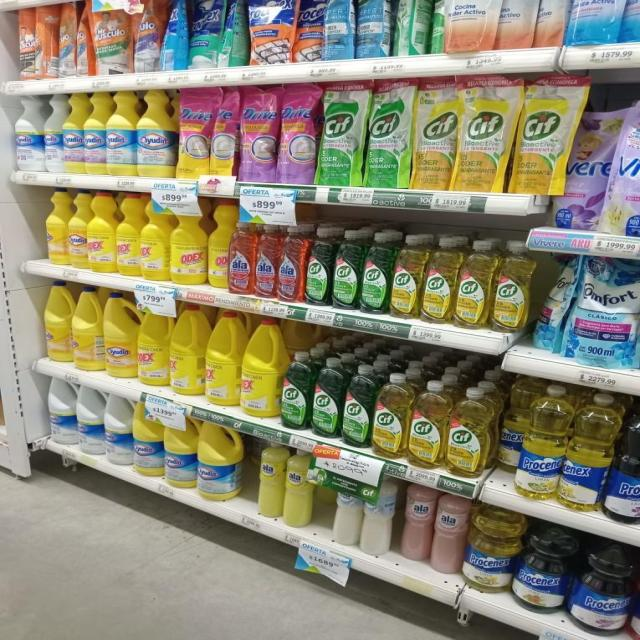ala_conc_rojo: (278, 224, 304, 303), (228, 220, 254, 296), (255, 223, 277, 299)
ala_crem_amarillo: (284, 448, 314, 528), (256, 441, 284, 520)
ala_crem_blanco: (361, 476, 397, 556), (331, 480, 360, 547)
ala_crem_rosado: (432, 493, 465, 575), (401, 484, 431, 563)
cif_conc_bot_amarilla: (447, 386, 493, 478), (493, 240, 531, 333), (456, 238, 492, 329), (410, 379, 446, 468), (373, 372, 408, 459), (423, 235, 455, 325), (391, 233, 421, 320)
cif_conc_botella_verde: (312, 356, 342, 439), (280, 351, 311, 430), (361, 230, 390, 314), (343, 364, 372, 448), (305, 226, 332, 307), (333, 229, 360, 310)
cif_conc_sachet_amarillo: (514, 72, 570, 196), (456, 74, 512, 192), (413, 75, 456, 191)
cif_conc_sachet_verde: (366, 76, 412, 189), (318, 79, 364, 187)
